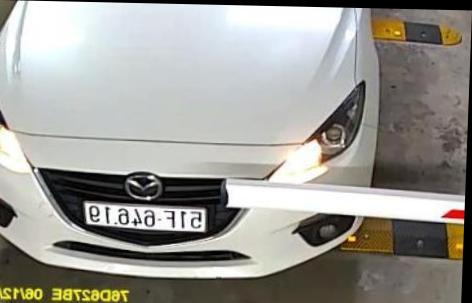License_Plate: (78, 200, 209, 240)
